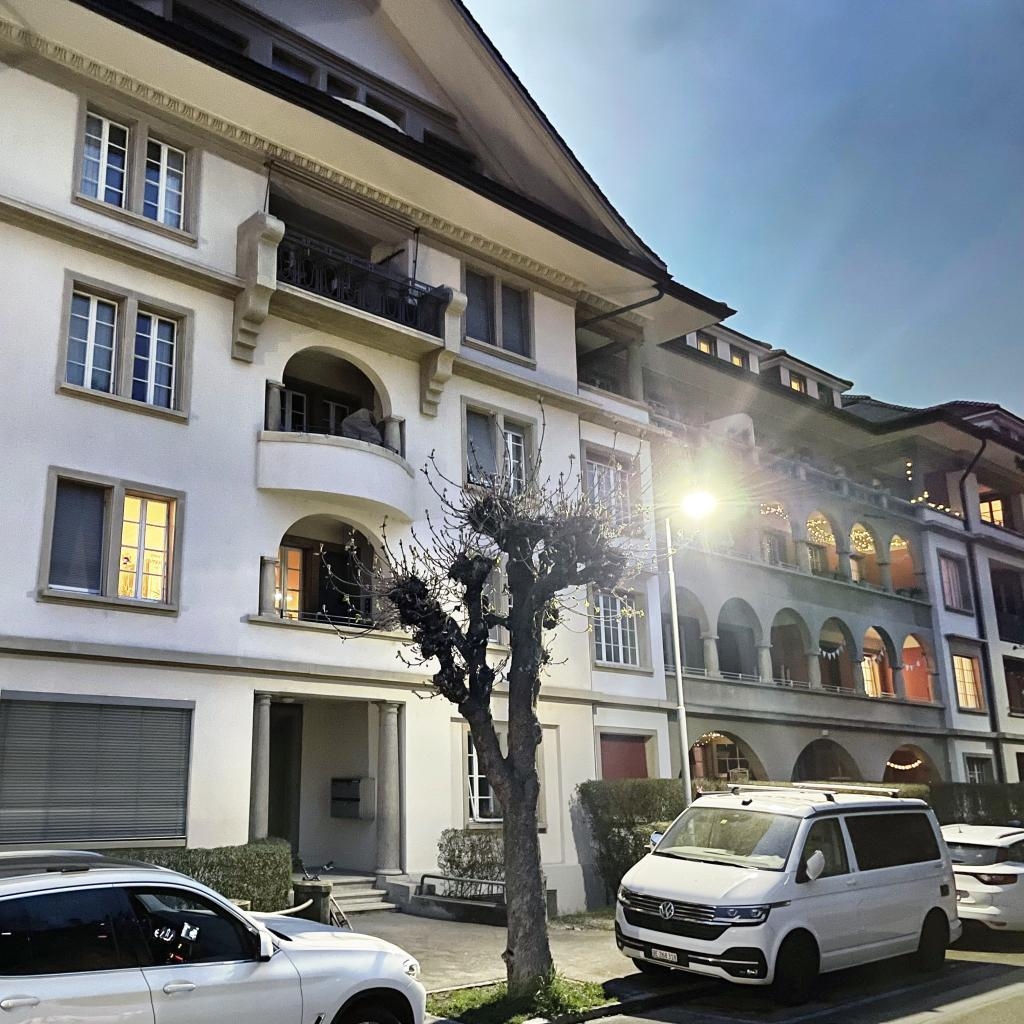balcony-fence: (277, 226, 449, 338), (655, 533, 915, 598), (665, 664, 934, 705), (279, 423, 399, 455), (276, 607, 404, 633)
car: (613, 782, 964, 1009), (0, 849, 427, 1024), (941, 824, 1024, 951)
fence: (401, 873, 507, 927), (268, 879, 334, 922)
street: (531, 919, 1024, 1024), (332, 908, 505, 990)
traffic-infrastructure: (665, 488, 719, 848)
vegetation: (313, 393, 700, 1024), (551, 778, 791, 922), (97, 836, 293, 914), (820, 781, 1024, 825)
window: (47, 474, 179, 606), (65, 279, 187, 412), (81, 103, 195, 234), (461, 260, 537, 371), (468, 730, 540, 822), (466, 403, 532, 496), (585, 447, 645, 533), (168, 0, 249, 56), (592, 588, 641, 666), (280, 388, 351, 437), (424, 128, 481, 174), (275, 546, 305, 621), (272, 44, 321, 89), (965, 757, 1001, 812), (952, 654, 985, 709), (366, 91, 407, 133), (940, 553, 967, 609), (327, 71, 360, 102), (860, 653, 883, 696), (979, 498, 1005, 527), (697, 330, 717, 356), (730, 344, 750, 370), (789, 369, 808, 395), (817, 381, 834, 406)
